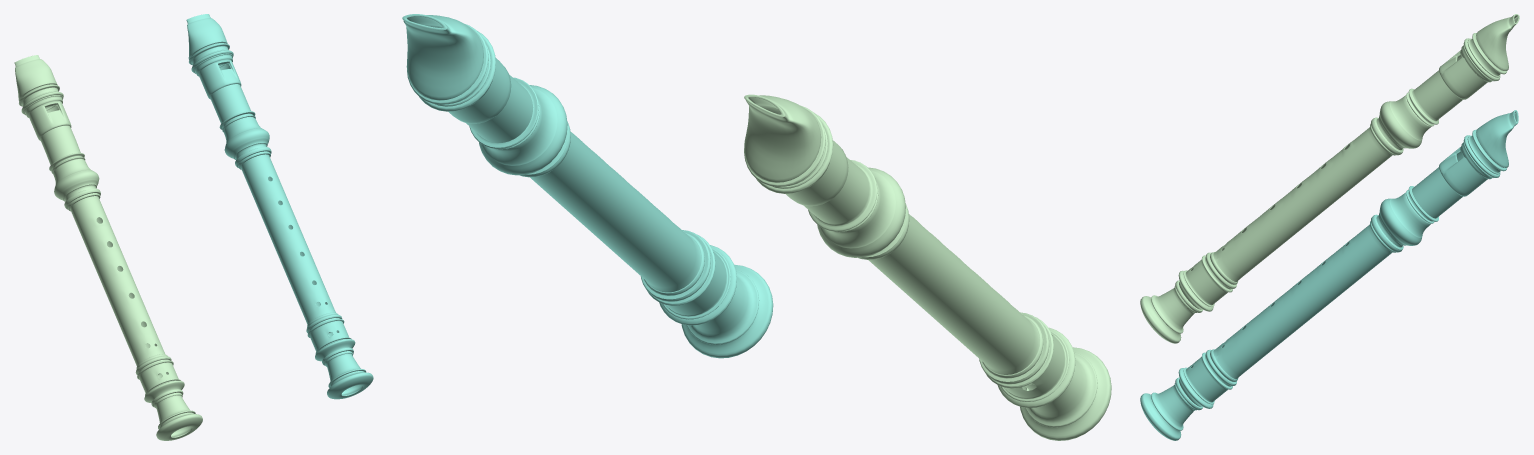
The model's file is Flute.fbx.
The picture shows the model from 3 angles, left to right: view 1: azimuth 30°, elevation 25°; view 2: azimuth 150°, elevation 25°; view 3: azimuth 270°, elevation 25°; orthographic projection. The views are drawn at different scales.
Parts seen in each view (by area): view 1: Flute; view 2: Flute; view 3: Flute.
Boxes of the visible parts, x1=… form: Flute: x1=14, y1=14, x2=373, y2=440; Flute: x1=402, y1=14, x2=1111, y2=440; Flute: x1=1140, y1=14, x2=1519, y2=440.
Bounding box in the file's own units: 4255 × 5284 × 5604.
